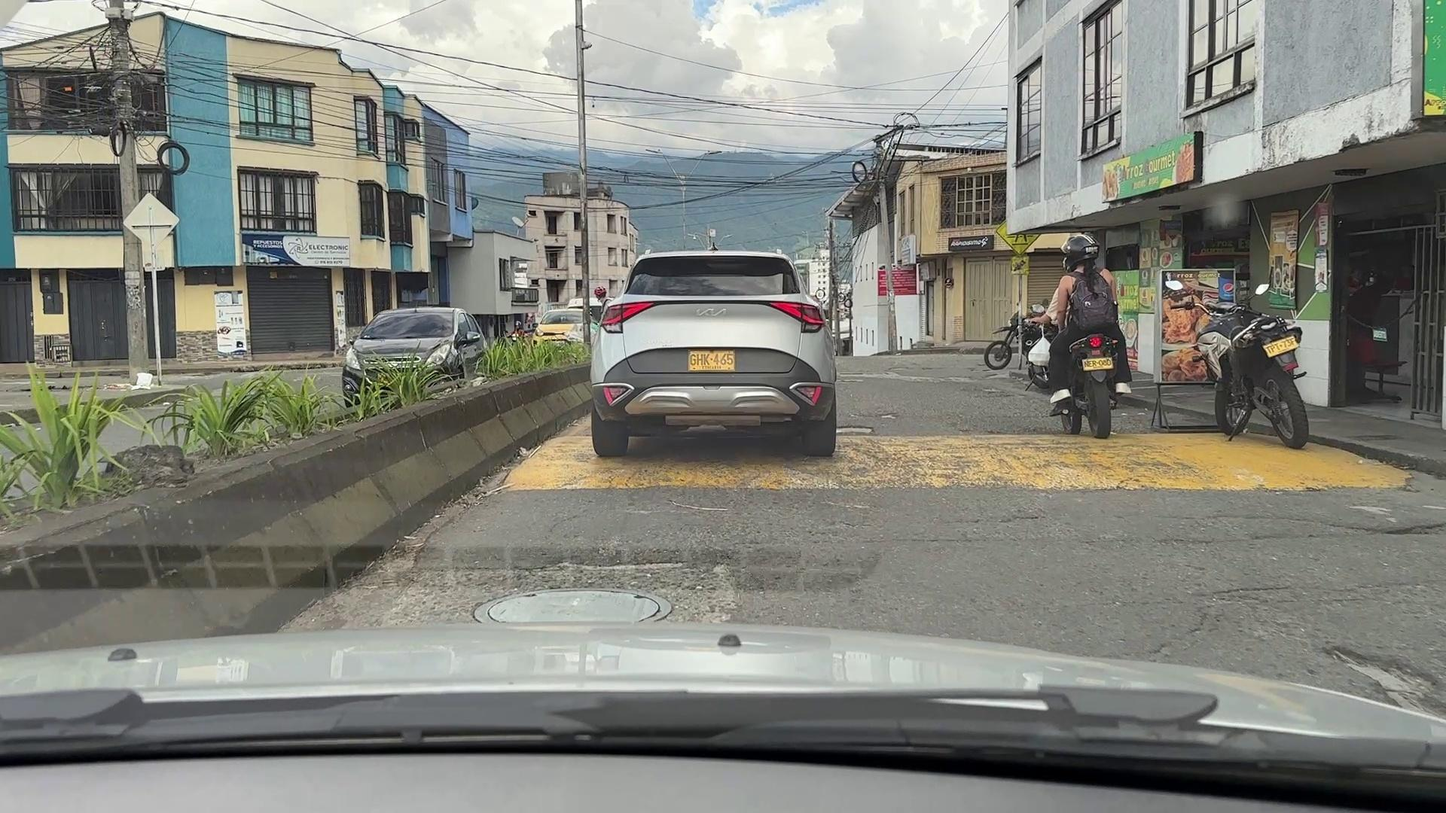bache: (1325, 645, 1445, 720), (1383, 522, 1445, 535), (837, 426, 874, 434), (879, 414, 897, 420)
grieta: (1213, 586, 1289, 594)
registro: (474, 589, 671, 623)
